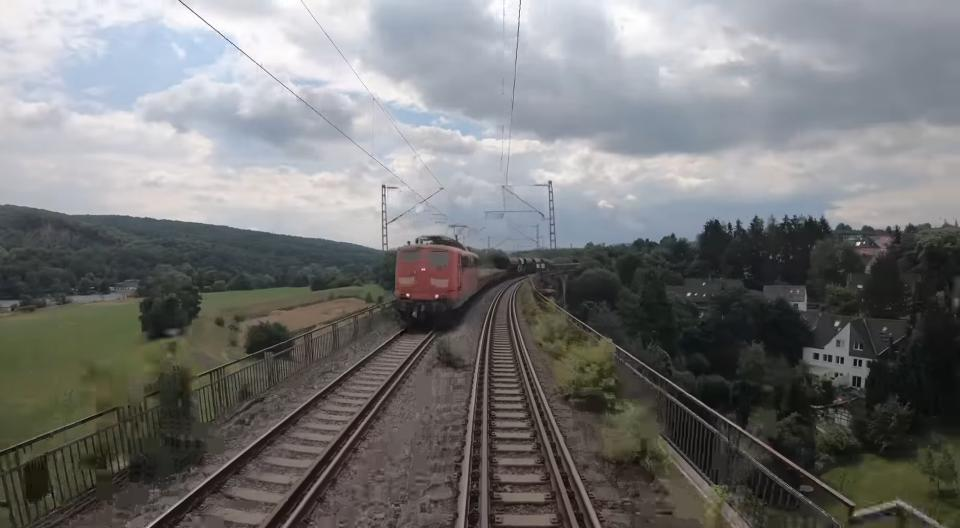Plant: (522, 298, 620, 413), (132, 371, 204, 480), (600, 400, 662, 472), (432, 333, 472, 368)
